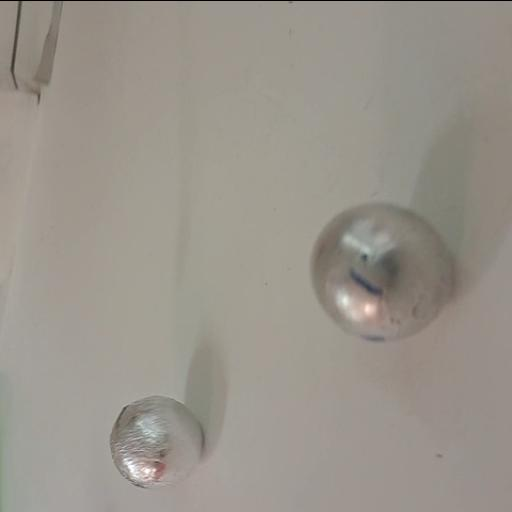alive: (306, 192, 464, 352), (106, 385, 208, 490)
